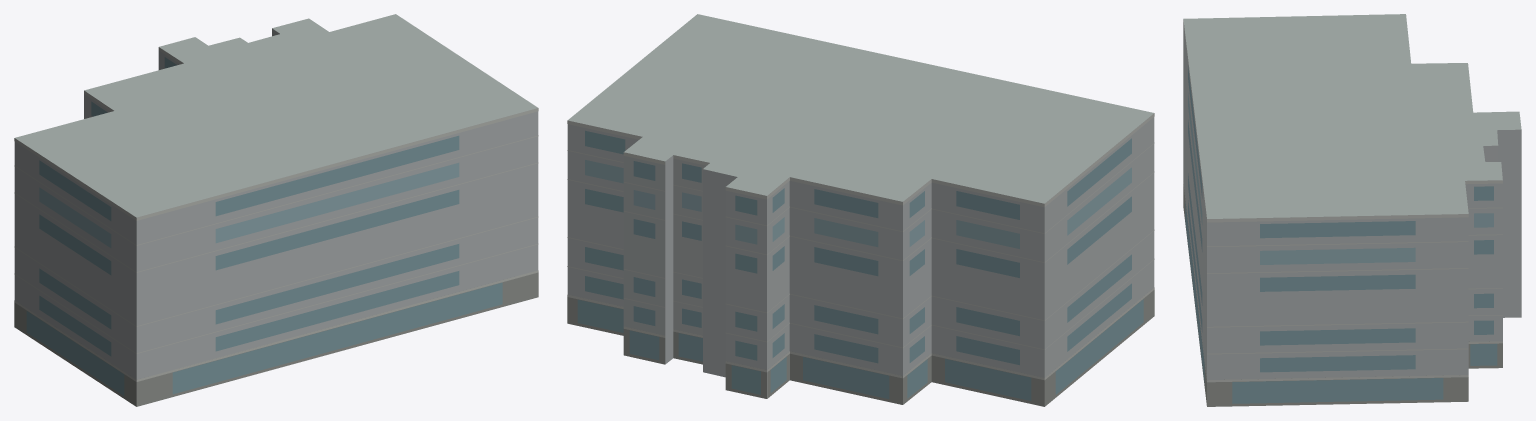
Rendered from survey-upis-32919012.glb.
3 views of the same model, side by side, from view 1: azimuth 30°, elevation 25°; view 2: azimuth 150°, elevation 25°; view 3: azimuth 270°, elevation 25° (orthographic). The views are drawn at different scales.
Parts seen in each view (by area): view 1: survey-upis-32919012.tmp; view 2: survey-upis-32919012.tmp; view 3: survey-upis-32919012.tmp.
Boxes of the visible parts, bbox=[...] form: survey-upis-32919012.tmp: bbox=[14, 14, 538, 406]; survey-upis-32919012.tmp: bbox=[567, 14, 1154, 406]; survey-upis-32919012.tmp: bbox=[1183, 14, 1521, 406].
Bounding box in the file's own units: 32 × 13.65 × 22.3.
